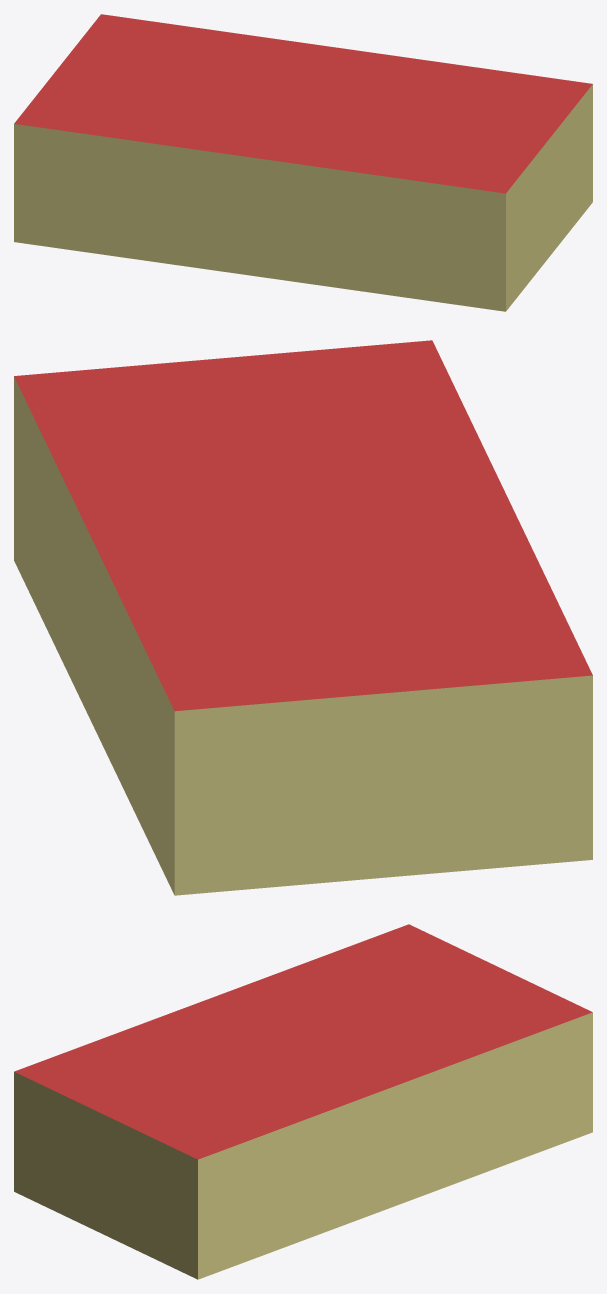
3 renders of one model, top to bottom at view 1: azimuth 30°, elevation 25°; view 2: azimuth 150°, elevation 25°; view 3: azimuth 270°, elevation 25°, orthographic. The views are drawn at different scales.
Size of the model in its own units: 29.38 by 30.53 by 6.99.
